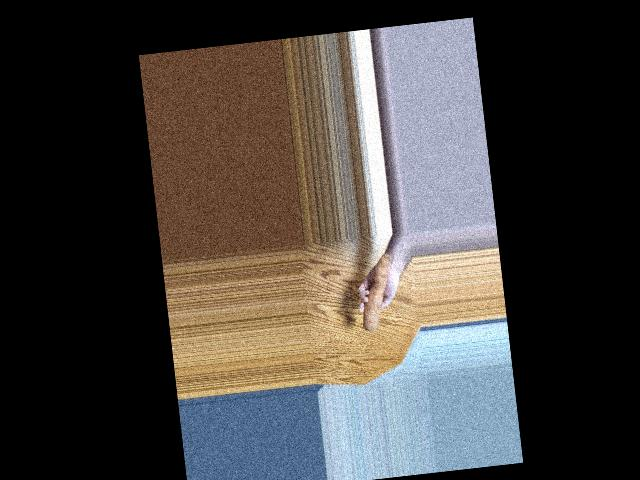sweet_potato: (354, 255, 398, 333)
